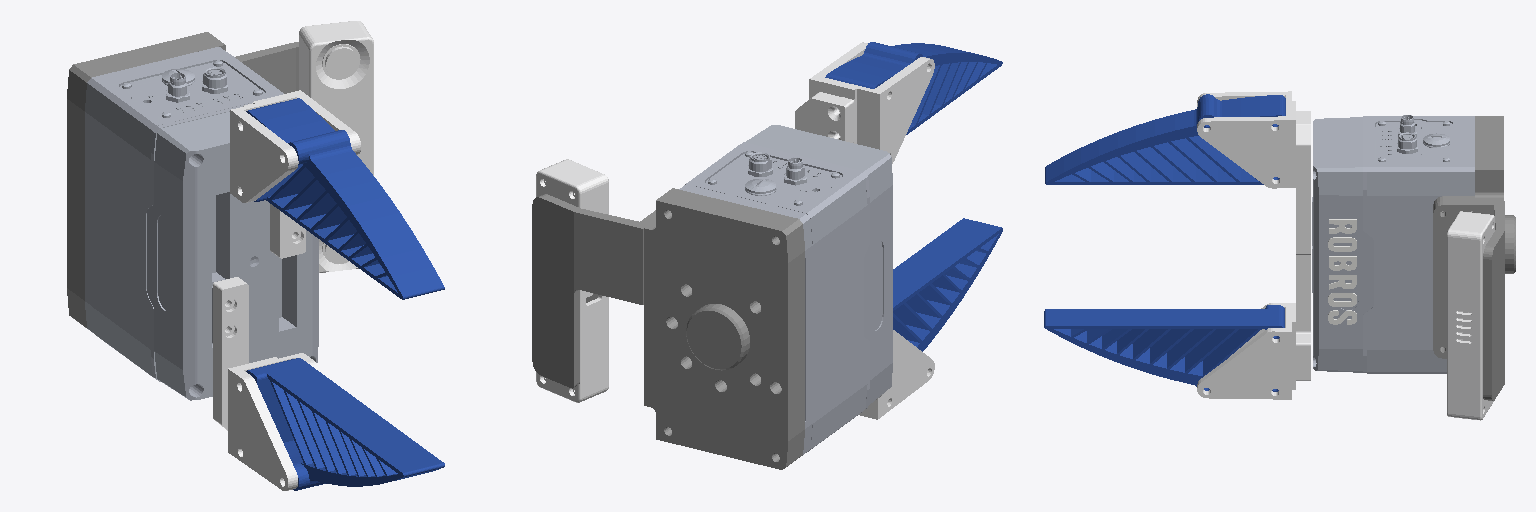
URDF robot description (shunk_gripper):
<?xml version="1.0"?>
<!-- # Description: URDF model for the SCHUNK gripper
# Author : [author]
# Date : 2025-02-27 -->
<robot name="shunk_gripper">
    <link name="base_link">
        <visual>
            <geometry>
                <mesh filename="package://shunk_gripper_description/meshes/shunk_motor.dae"/>
                <origin xyz="0.0 0.0 0.0" rpy="0.0 0.0 0.0"/>
            </geometry>
        </visual>
        <inertial>
            <mass value="2.043549"/>
            <origin xyz="0.038902 0.017018 0.044141"/>
            <inertia ixx="3.631" ixy="0.2962" ixz="0.052285"
                     iyy="3.972" iyz="-0.038303"
                     izz="3.554"/>
        </inertial>
    </link>

    <link name="finger_l">
        <visual>
            <geometry>
                <mesh filename="package://shunk_gripper_description/meshes/left_finger.dae"/>
                <origin xyz="0.0 0.0 0.0" rpy="0.0 0.0 0.0"/>
            </geometry>
        </visual>
        <inertial>
            <mass value="0.046237"/>
            <origin xyz="0.020173 0.011302 0.01343"/>
            <inertia ixx="0.052784392" ixy="-0.004778793" ixz="-0.000269796"
                     iyy="0.010977510" iyz="-0.000966438"
                     izz="0.054806177"/>
        </inertial>
    </link>

    <link name="finger_r">
        <visual>
            <geometry>
                <mesh filename="package://shunk_gripper_description/meshes/right_finger.dae"/>
            </geometry>
        </visual>
        <inertial>
            <mass value="0.046237"/>
            <origin xyz="0.020173 0.011302 0.01343"/>
            <inertia ixx="0.052784392" ixy="-0.004778793" ixz="-0.000269796"
                     iyy="0.010977510" iyz="-0.000966438"
                     izz="0.054806177"/>
        </inertial>
    </link>

    <joint name="finger_l_joint" type="prismatic">
        <parent link="base_link"/>
        <child link="finger_l"/>
        <origin xyz="-0.006 -0.105 -0.032" rpy="0 1.57 0"/>
        <axis xyz="1 0 0"/>
        <limit lower="-0.04" upper="0.0" effort="10.0" velocity="0.1"/>
    </joint>

    <joint name="finger_r_joint" type="prismatic">
        <parent link="base_link"/>
        <child link="finger_r"/>
        <origin xyz="0.015 -0.105 0.053" rpy="0 1.57 0"/>
        <axis xyz="-1 0 0"/>
        <limit lower="-0.04" upper="0.0" effort="10.0" velocity="0.1"/>
    </joint>
</robot>

--- Facts derived from the render (not from the file) ---
Views: 3 orthographic renders of the robot side by side, from view 1: azimuth 30°, elevation 25°; view 2: azimuth 150°, elevation 25°; view 3: azimuth 270°, elevation 25°.
Robot: shunk_gripper — 3 links, 2 joints (2 prismatic); root link base_link; default pose: every joint at zero.
Visible links, largest first — view 1: base_link, finger_r, finger_l; view 2: base_link, finger_r, finger_l; view 3: base_link, finger_r, finger_l.
Link boxes in pixels (x1,y1,x2,y2): base_link: [67, 21, 373, 400]; finger_r: [230, 90, 444, 299]; finger_l: [213, 277, 444, 490]; base_link: [532, 125, 892, 469]; finger_r: [795, 42, 1002, 163]; finger_l: [859, 218, 1002, 419]; base_link: [1312, 115, 1515, 420]; finger_r: [1045, 91, 1310, 254]; finger_l: [1044, 255, 1310, 399].
Size in the robot's own frame: 0.1359 by 0.2417 by 0.1594 metres.
3 mesh visuals loaded from 3 distinct referenced files (3 Collada DAE).